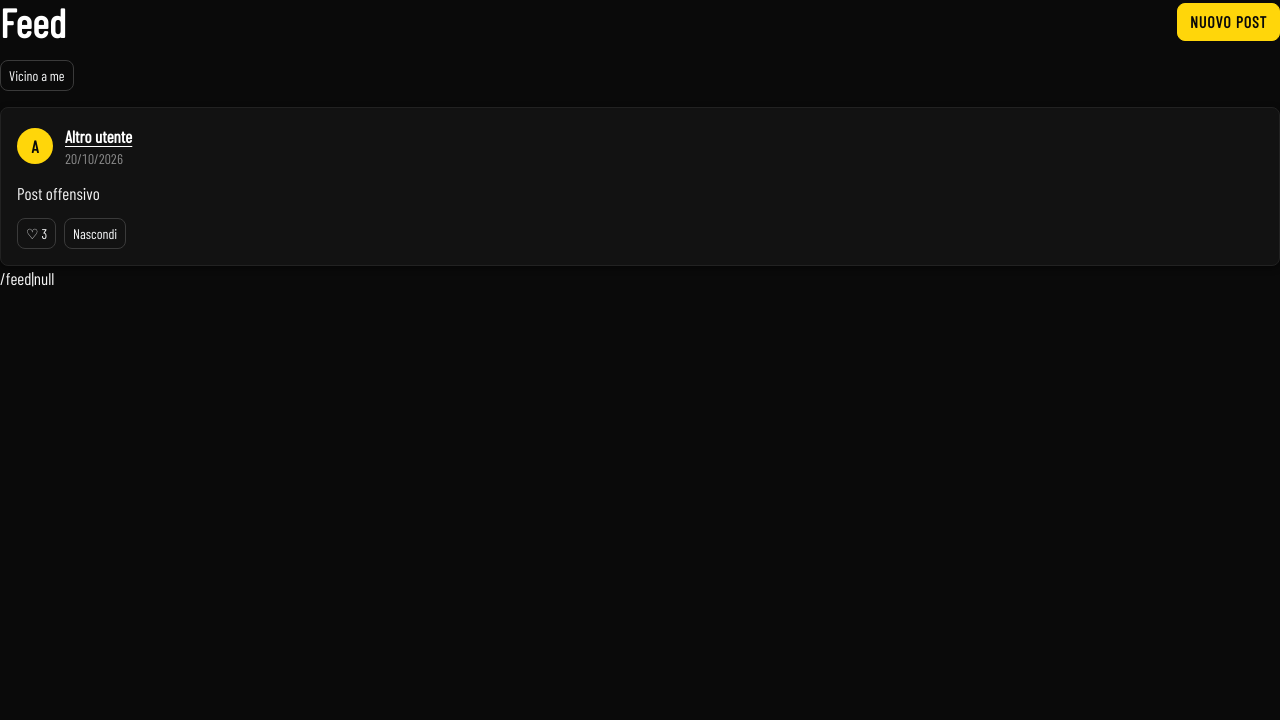
Test case: FeedPage · «Nascondi» per gli admin › un admin nasconde il post di un altro con un motivo e il post sparisce dal feed
Expected: the text "Post offensivo" is shown, [17, 183, 100, 203]
Click the button "Nascondi" at {"x": 95, "y": 233}, box [64, 218, 126, 249]
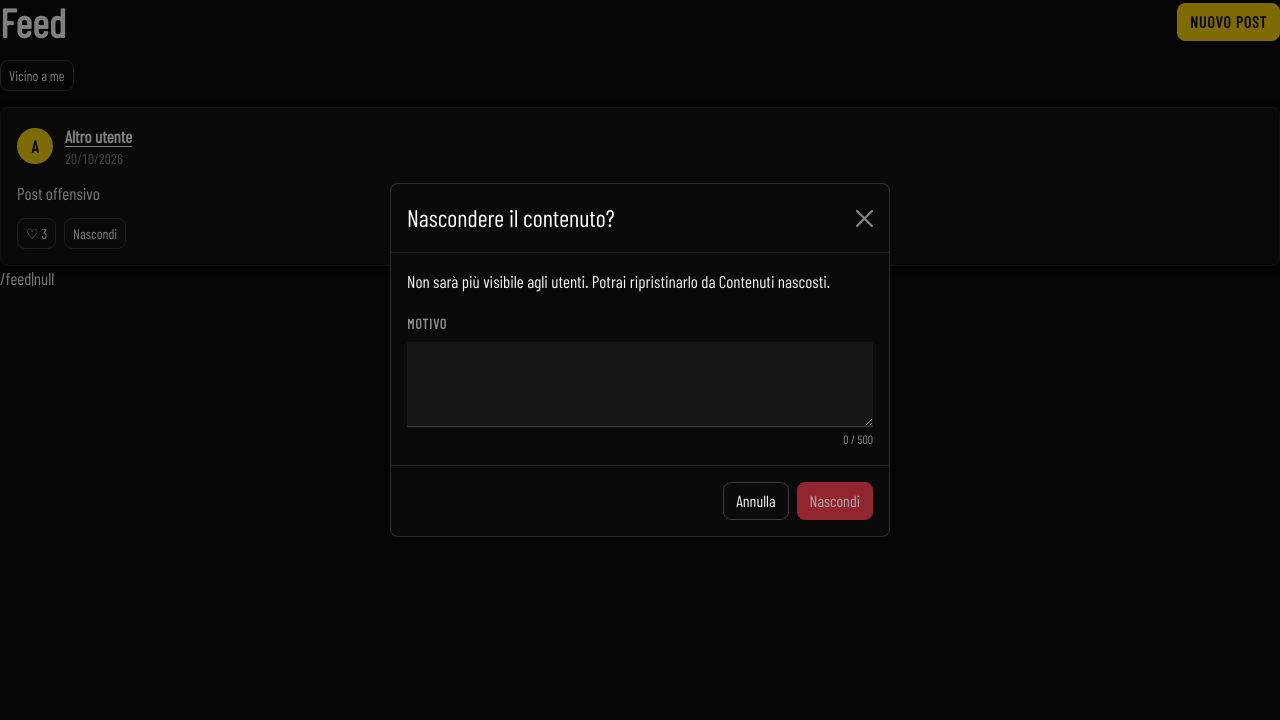
Type "Contenuto offensivo" into the text box labelled "Motivo" at {"x": 640, "y": 385}, box [407, 342, 873, 427]
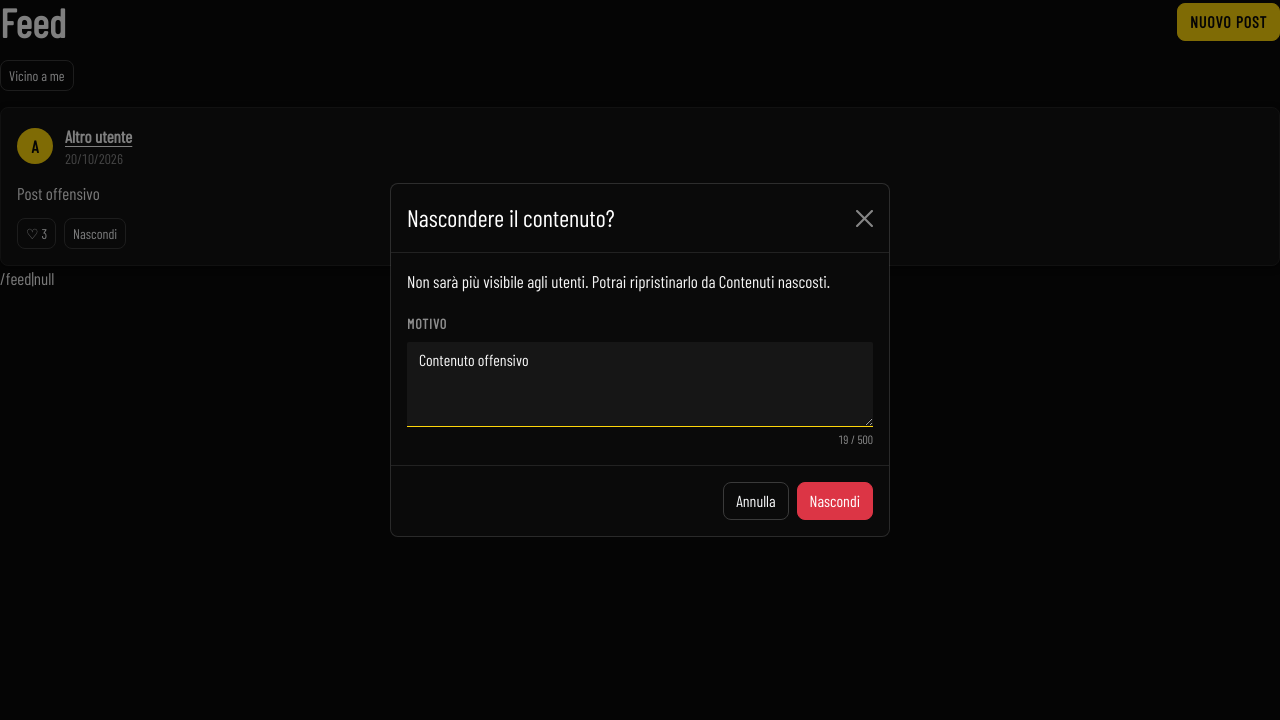
Click the button "Nascondi" at {"x": 835, "y": 501}, box [797, 482, 873, 520]
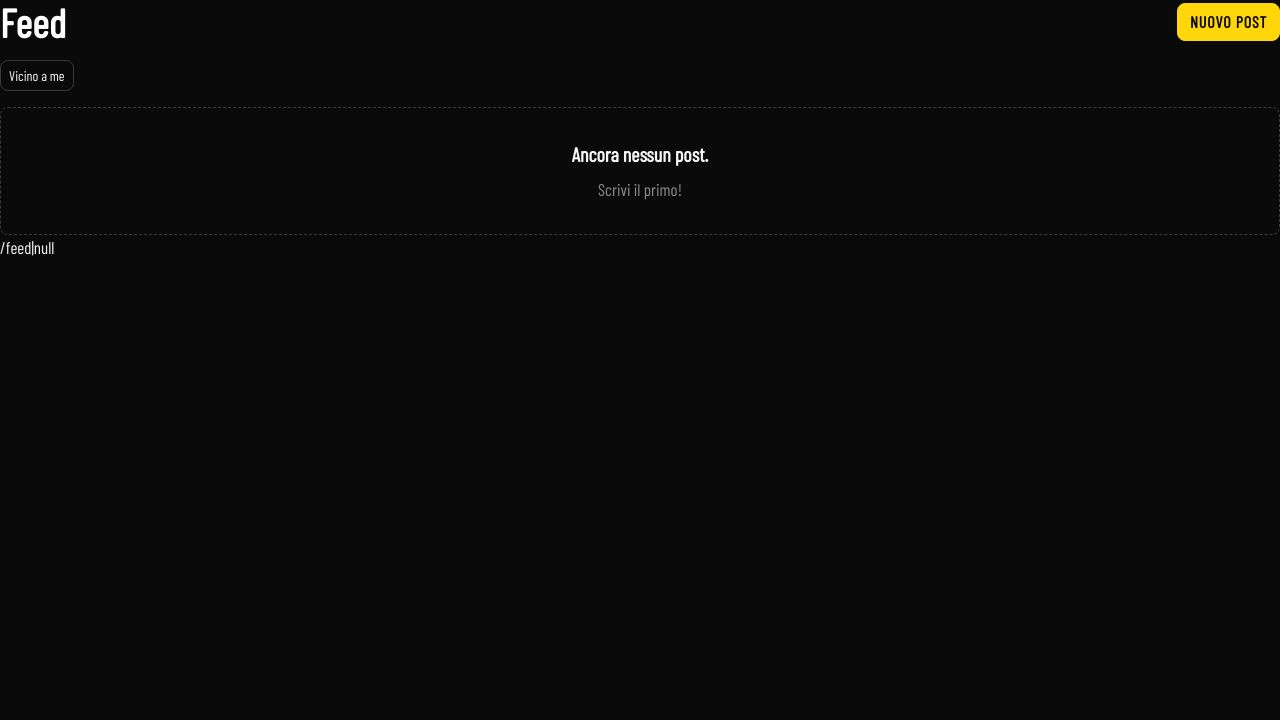
Now the text "Post offensivo" is gone
